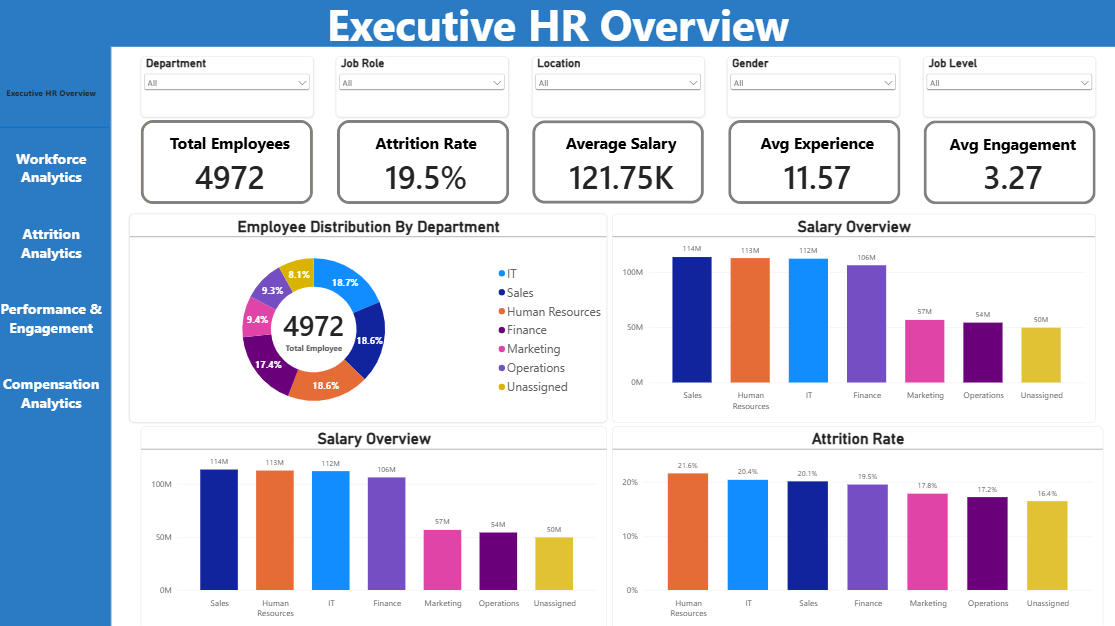

Layout of this report page (visuals, bound fields, positions):
{"tool":"powerbi","page":{"name":"Executive HR Overview","canvas":[1920,1080],"ordinal":0},"visuals":[{"type":"shape","box":[200,87.5,1720,992.5],"z":0},{"type":"slicer","fields":{"Values":["Fact Table.Department"]},"box":[251.4,103.5,291.6,103],"z":0,"group":"g2"},{"type":"cardVisual","fields":{"Data":["CountNonNull(Dim_Employee.Employee_ID)"]},"box":[251.7,210.2,291.3,142.3],"z":0,"group":"g1"},{"type":"slicer","fields":{"Values":["Dim_JobRole.Job_Role"]},"box":[581.1,103.5,291.6,103],"z":1000,"group":"g2"},{"type":"cardVisual","fields":{"Data":["Attrition_Measures.Attrition Rate"]},"box":[582.5,210.2,291.3,142.3],"z":1000,"group":"g1"},{"type":"slicer","fields":{"Values":["Fact Table.Location"]},"box":[912.8,103.5,291.6,103],"z":2000,"group":"g2"},{"type":"group","id":"g1","title":"Group 1","box":[251.7,210.2,1614.7,142.3],"z":2000},{"type":"cardVisual","fields":{"Data":["All Measures.Ave Salary"]},"box":[913.4,210.2,291.3,142.3],"z":2000,"group":"g1"},{"type":"slicer","fields":{"Values":["Fact Table.Gender_New"]},"box":[1242.5,103.5,291.6,103],"z":3000,"group":"g2"},{"type":"cardVisual","fields":{"Data":["All Measures.Avg_Experience"]},"box":[1244.2,210.2,291.3,142.3],"z":3000,"group":"g1"},{"type":"donutChart","title":"Employee Distribution By Department","fields":{"Category":["Fact Table.Department"],"Y":["CountNonNull(Fact Table.Employee_ID)"]},"box":[232.4,369.7,807,352.8],"z":3000},{"type":"group","id":"g2","title":"Group 2","box":[251.4,103.5,1614.1,103.5],"z":4000},{"type":"slicer","fields":{"Values":["Fact Table.Job_Level"]},"box":[1574.2,103.5,291.6,103],"z":4000,"group":"g2"},{"type":"cardVisual","fields":{"Data":["All Measures.Average Engagement"]},"box":[1575.1,210.2,291.3,142.3],"z":4000,"group":"g1"},{"type":"columnChart","title":"Salary Overview","fields":{"Category":["Fact Table.Department"],"Y":["Sum(Fact Table.Salary)"]},"box":[251.4,728.9,788,344.4],"z":5000},{"type":"pageNavigator","box":[0,105,200,630],"z":6000},{"type":"textbox","box":[0,0,1920.4,86.6],"z":7000},{"type":"columnChart","title":"Attrition Rate","fields":{"Category":["Fact Table.Department"],"Y":["Attrition_Measures.Attrition Rate"]},"box":[1047.9,728.9,830.3,344.4],"z":8000},{"type":"columnChart","title":"Salary Overview","fields":{"Category":["Fact Table.Department"],"Y":["Sum(Fact Table.Salary)"]},"box":[1047.9,369.7,817.6,352.8],"z":9000}]}

Visuals, with their boxes on the page's 1920x1080 design canvas (x1, y1, x2, y2). These are canvas units, not pixel positions in the 1115x626 screenshot, which may show the page scaled, cropped or inside an application window:
shape: crop(200, 88, 1920, 1080)
slicer - Fact Table.Department: crop(251, 104, 543, 206)
cardVisual - CountNonNull(Dim_Employee.Employee_ID): crop(252, 210, 543, 352)
slicer - Dim_JobRole.Job_Role: crop(581, 104, 873, 206)
cardVisual - Attrition_Measures.Attrition Rate: crop(582, 210, 874, 352)
slicer - Fact Table.Location: crop(913, 104, 1204, 206)
"Group 1" group: crop(252, 210, 1866, 352)
cardVisual - All Measures.Ave Salary: crop(913, 210, 1205, 352)
slicer - Fact Table.Gender_New: crop(1242, 104, 1534, 206)
cardVisual - All Measures.Avg_Experience: crop(1244, 210, 1536, 352)
"Employee Distribution By Department" donutChart: crop(232, 370, 1039, 722)
"Group 2" group: crop(251, 104, 1866, 207)
slicer - Fact Table.Job_Level: crop(1574, 104, 1866, 206)
cardVisual - All Measures.Average Engagement: crop(1575, 210, 1866, 352)
"Salary Overview" columnChart: crop(251, 729, 1039, 1073)
pageNavigator: crop(0, 105, 200, 735)
textbox: crop(0, 0, 1920, 87)
"Attrition Rate" columnChart: crop(1048, 729, 1878, 1073)
"Salary Overview" columnChart: crop(1048, 370, 1866, 722)
